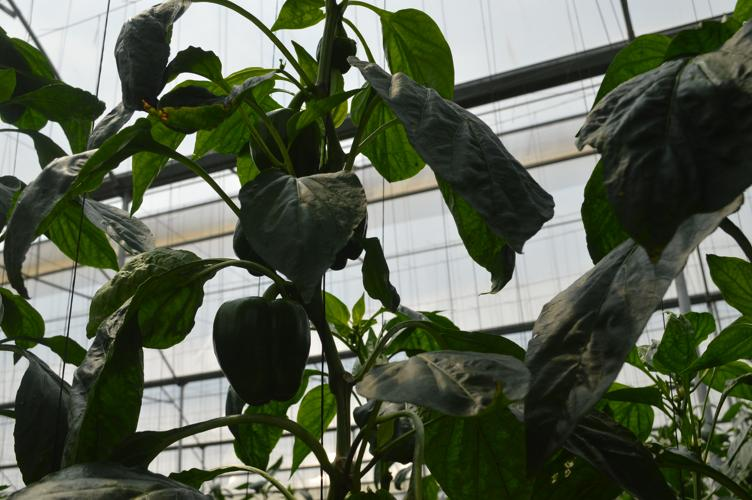BellPepper: (216, 297, 313, 402), (252, 109, 323, 175)
